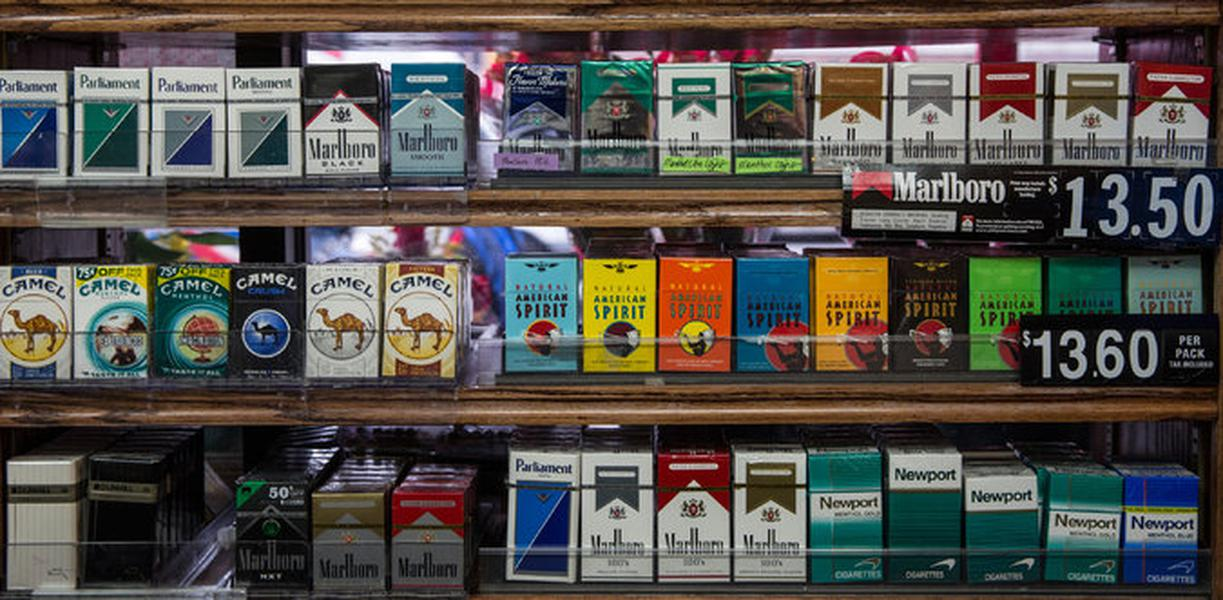marlboro_mentol: (657, 64, 729, 175)
marlboro_red: (657, 458, 729, 583), (1133, 66, 1208, 166), (971, 66, 1044, 164), (391, 494, 463, 592)
